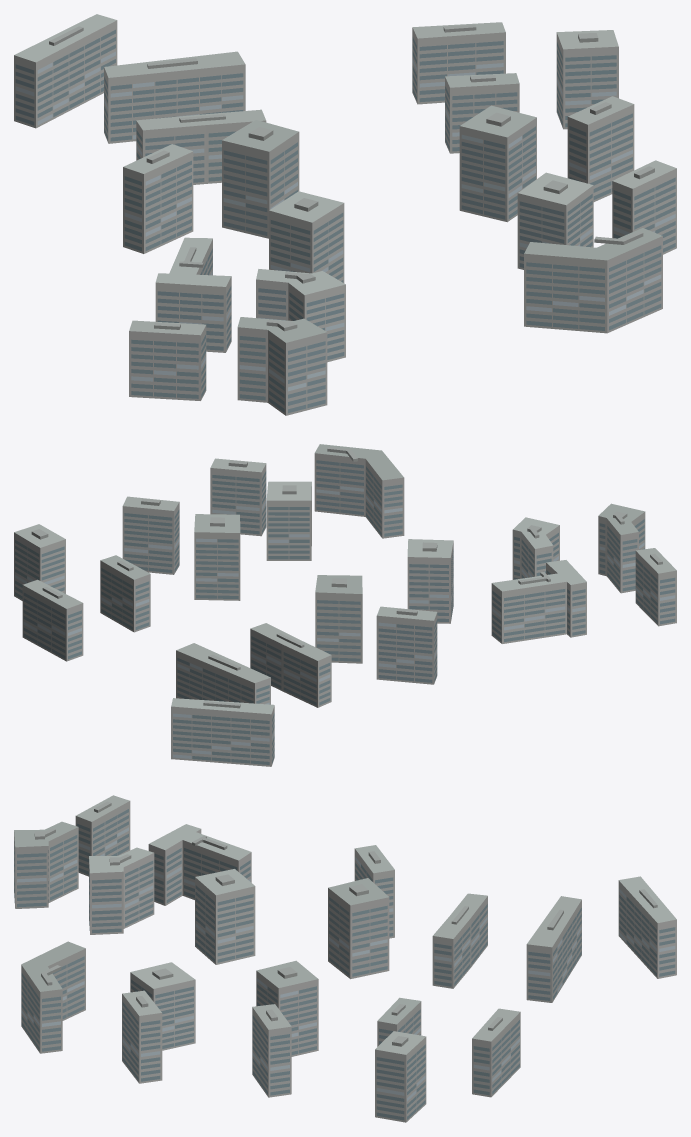
File: apt-a41279924.glb
3 views of the same model, one above another, from view 1: azimuth 30°, elevation 25°; view 2: azimuth 150°, elevation 25°; view 3: azimuth 270°, elevation 25° (orthographic). The views are drawn at different scales.
Visible parts, largest first — view 1: apt-a41279924; view 2: apt-a41279924; view 3: apt-a41279924.
Boxes of the visible parts, box(x1,y1,x2,y2) form: apt-a41279924: box(14, 14, 676, 415); apt-a41279924: box(14, 444, 676, 766); apt-a41279924: box(14, 795, 676, 1122).
Size of the model in its own units: 279 by 37 by 288.
